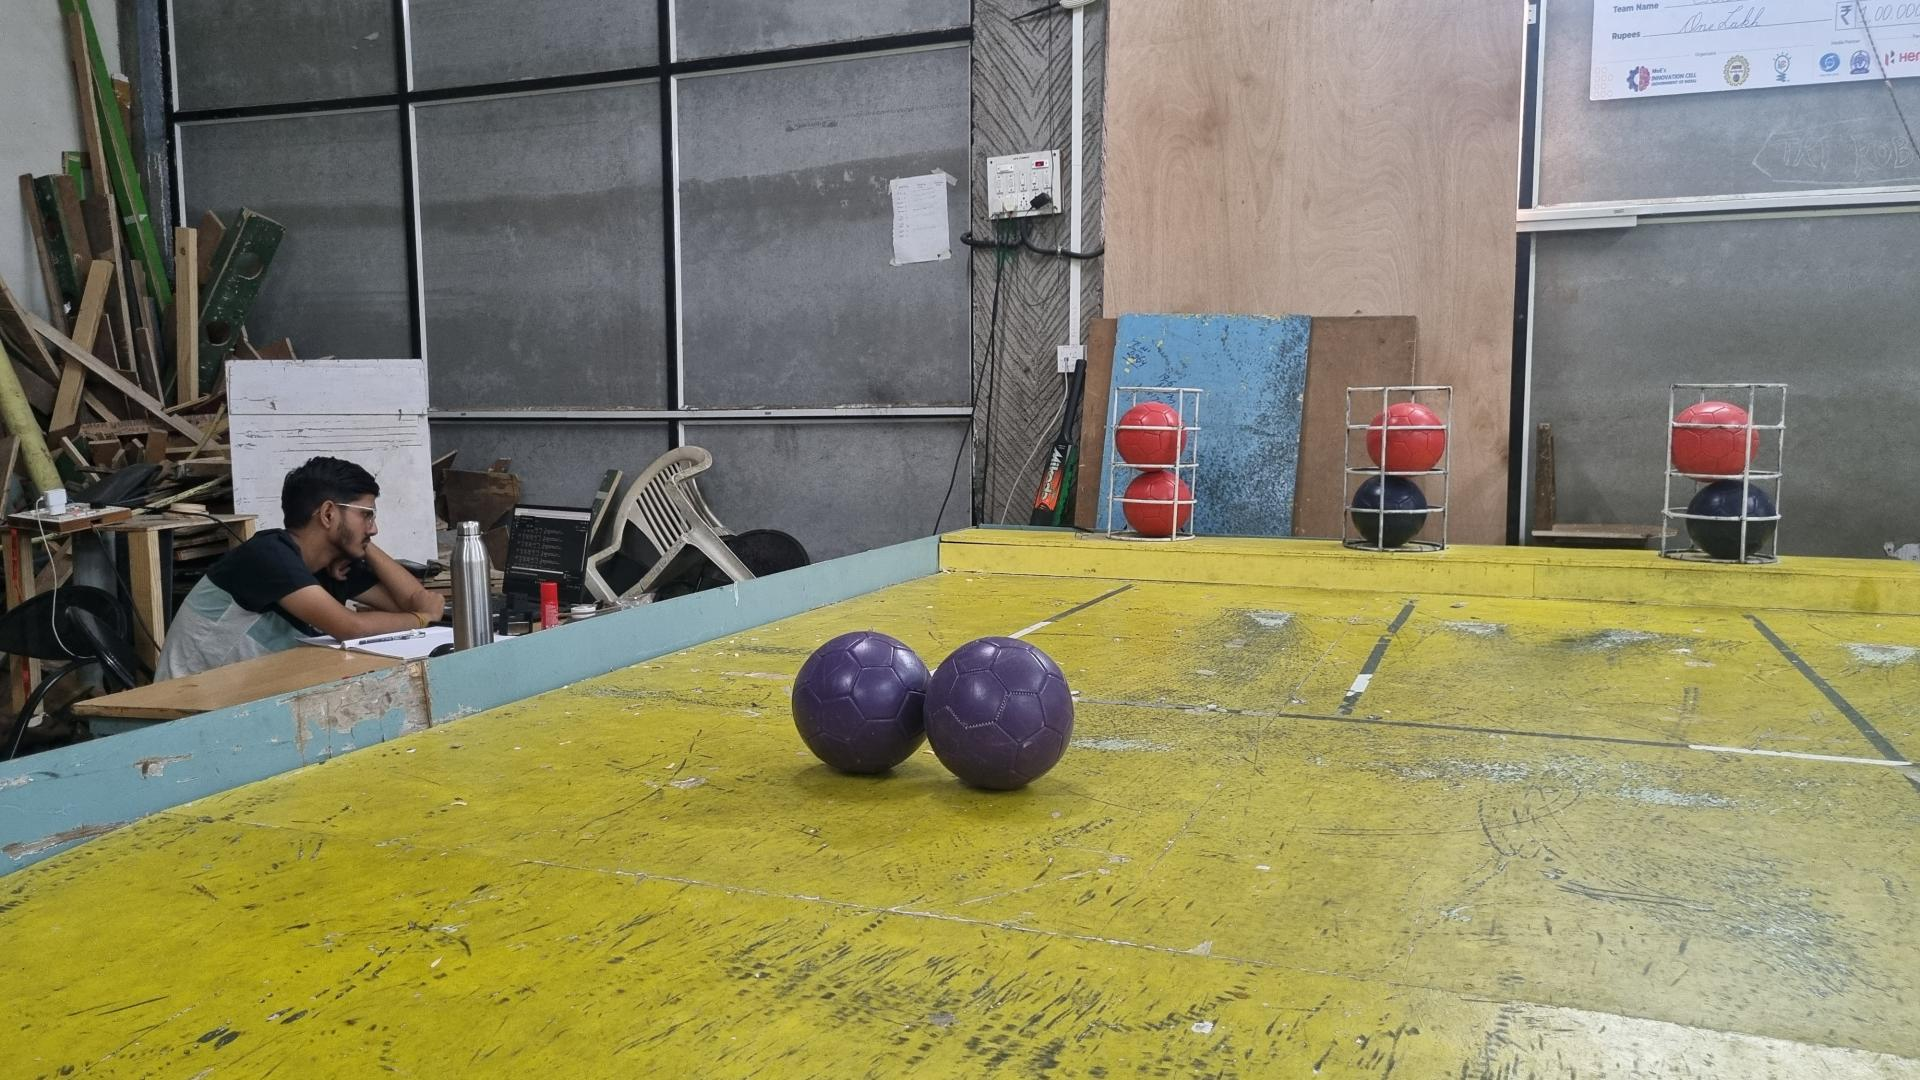dhoka: (1688, 480, 1778, 558), (1350, 476, 1428, 547)
laale: (1672, 401, 1759, 476), (1365, 401, 1448, 472), (1114, 401, 1185, 468), (1121, 472, 1192, 535)
